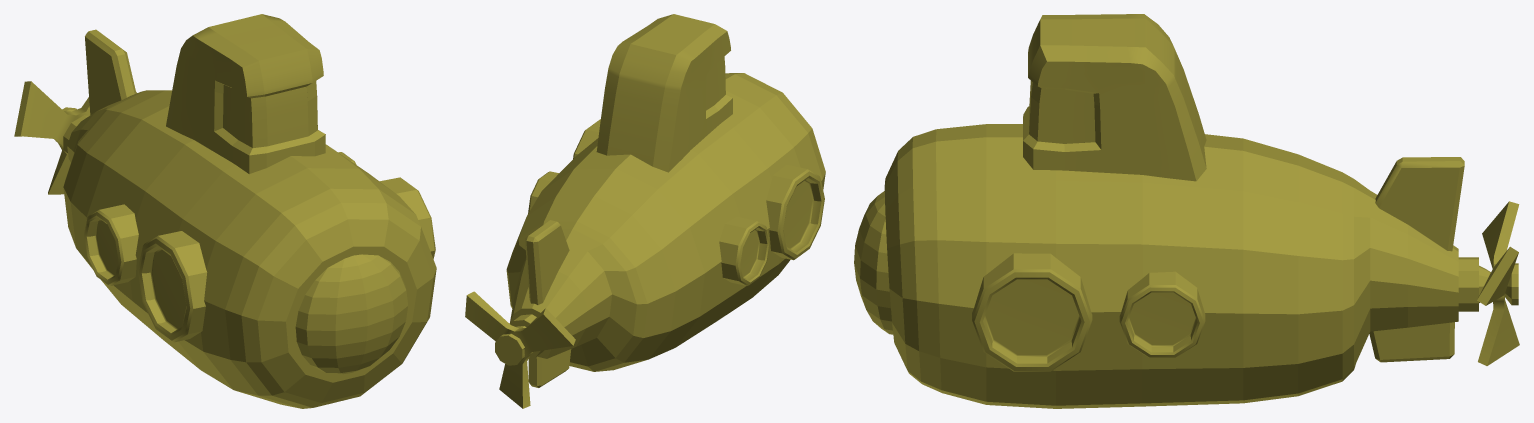
The model's file is hull upgrade 3.fbx.
3 renders of one model, left to right at view 1: azimuth 30°, elevation 25°; view 2: azimuth 150°, elevation 25°; view 3: azimuth 270°, elevation 25°, orthographic. The views are drawn at different scales.
Visible parts, largest first — view 1: polySurface52; view 2: polySurface52; view 3: polySurface52.
Part boxes in pixels (x1,y1,x2,y2): polySurface52: (14, 14, 436, 408); polySurface52: (465, 14, 825, 408); polySurface52: (854, 14, 1519, 408).
Size of the model in its own units: 1.3 by 1.63 by 2.71.
